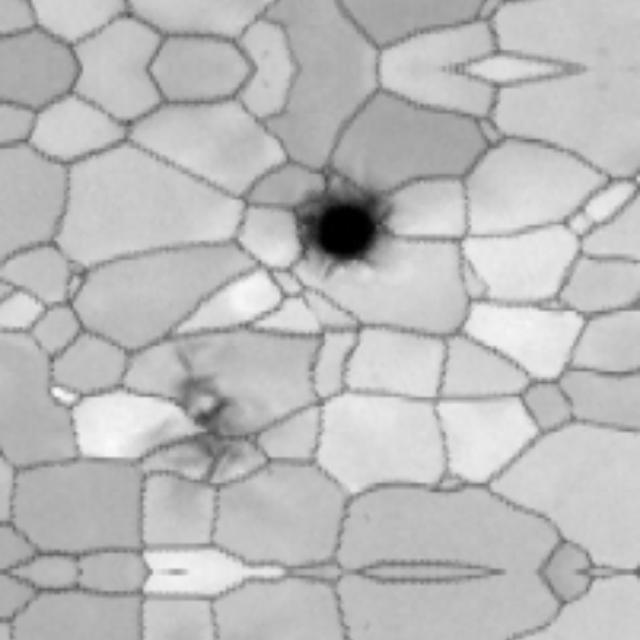good_void: (131, 343, 259, 483), (285, 181, 395, 279)
